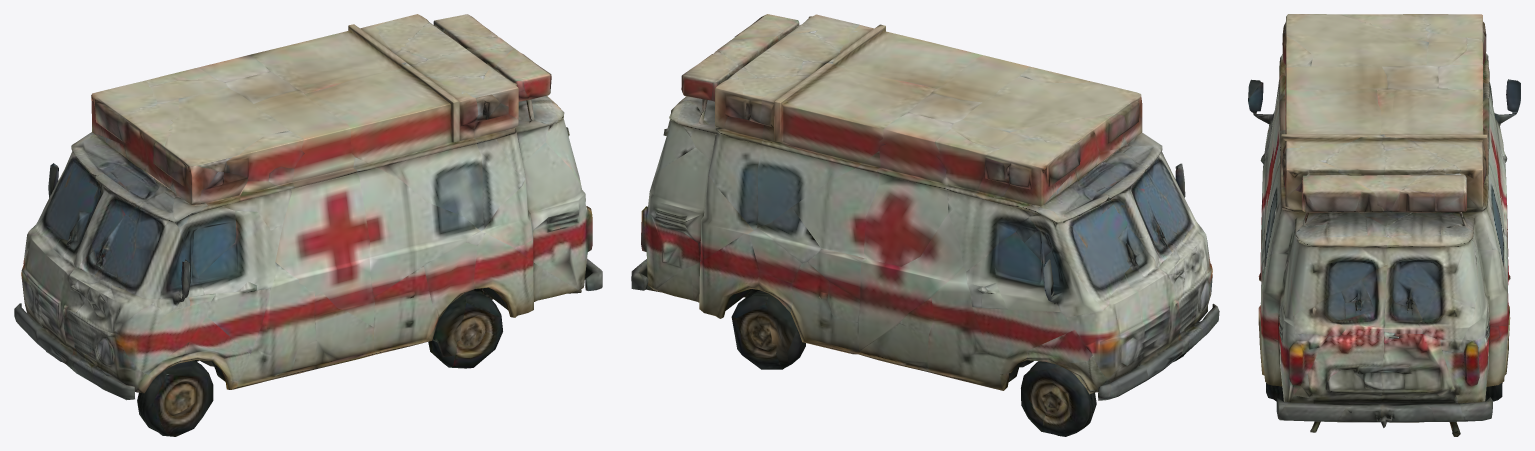
File: car_ambulance_light_q3.glb
3 renders of one model, left to right at view 1: azimuth 30°, elevation 25°; view 2: azimuth 150°, elevation 25°; view 3: azimuth 270°, elevation 25°, orthographic. The views are drawn at different scales.
Bounding box in the file's own units: 5.21 × 2.6 × 2.47.
Materials: 1 (1 with a texture image).
